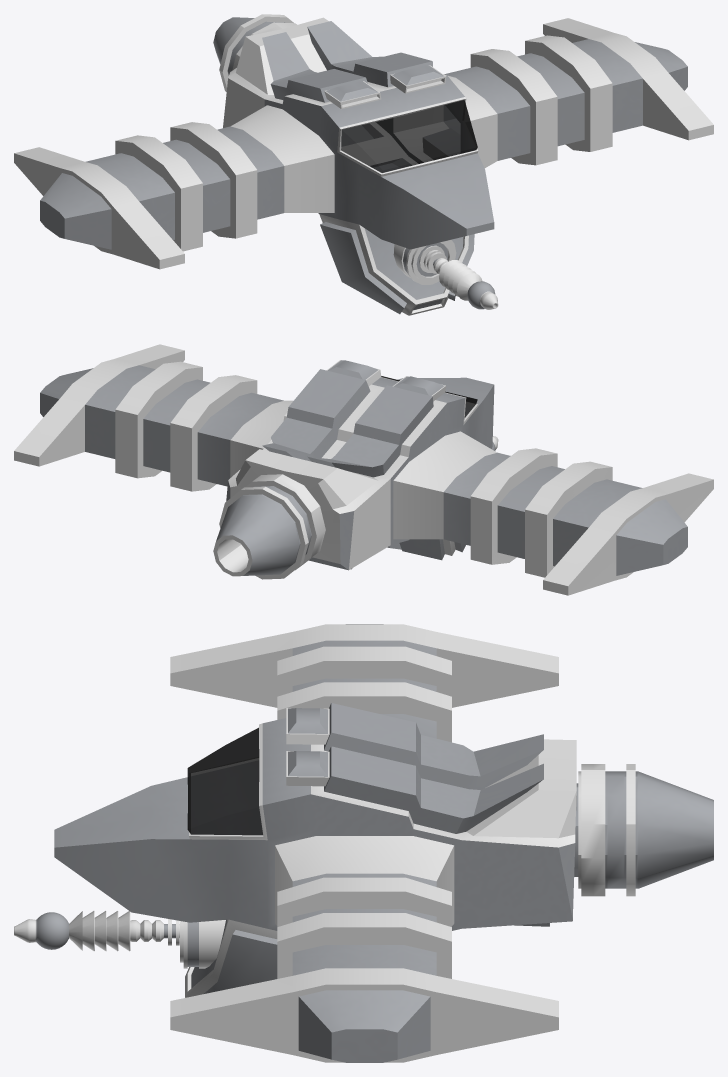
The model's file is CCE.fbx.
3 renders of one model, top to bottom at view 1: azimuth 30°, elevation 25°; view 2: azimuth 150°, elevation 25°; view 3: azimuth 270°, elevation 25°, orthographic. The views are drawn at different scales.
Parts seen in each view (by area): view 1: CCE; view 2: CCE; view 3: CCE.
Boxes of the visible parts, x1,y1,x2,y2 form: CCE: (14,14,713,315); CCE: (14,344,713,595); CCE: (14,624,713,1062).
Bounding box in the file's own units: 8.9 × 2.8 × 6.49.
